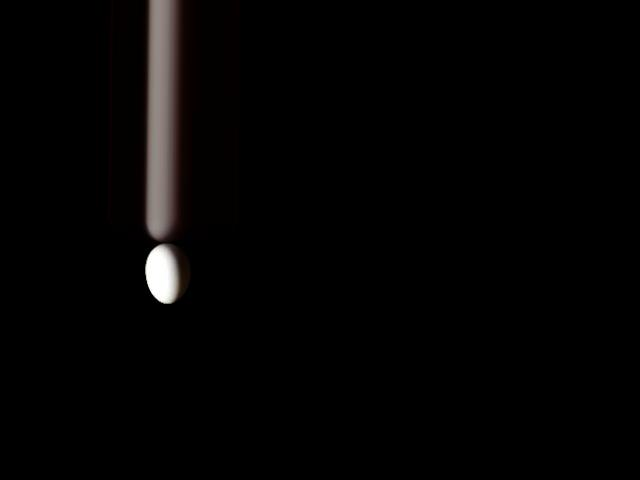egg: (144, 242, 190, 303)
